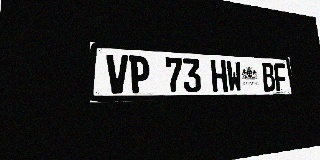3: (183, 58, 201, 92)
7: (164, 57, 184, 93)
B: (261, 62, 276, 91)
F: (273, 63, 288, 91)
H: (210, 60, 228, 92)
P: (129, 55, 150, 93)
V: (106, 54, 129, 94)
W: (226, 60, 243, 92)
